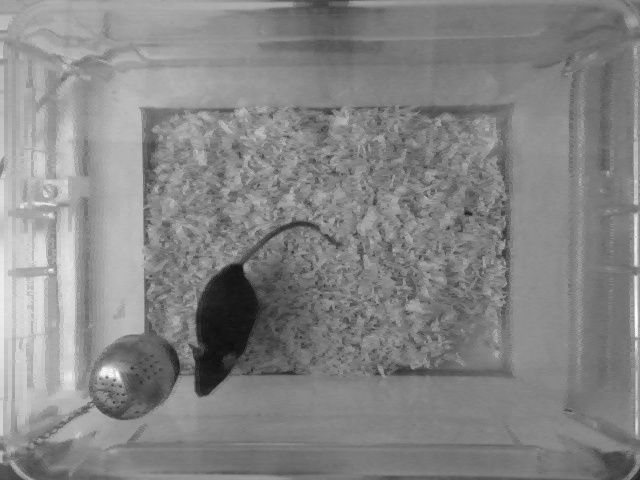mice: (190, 218, 334, 396)
